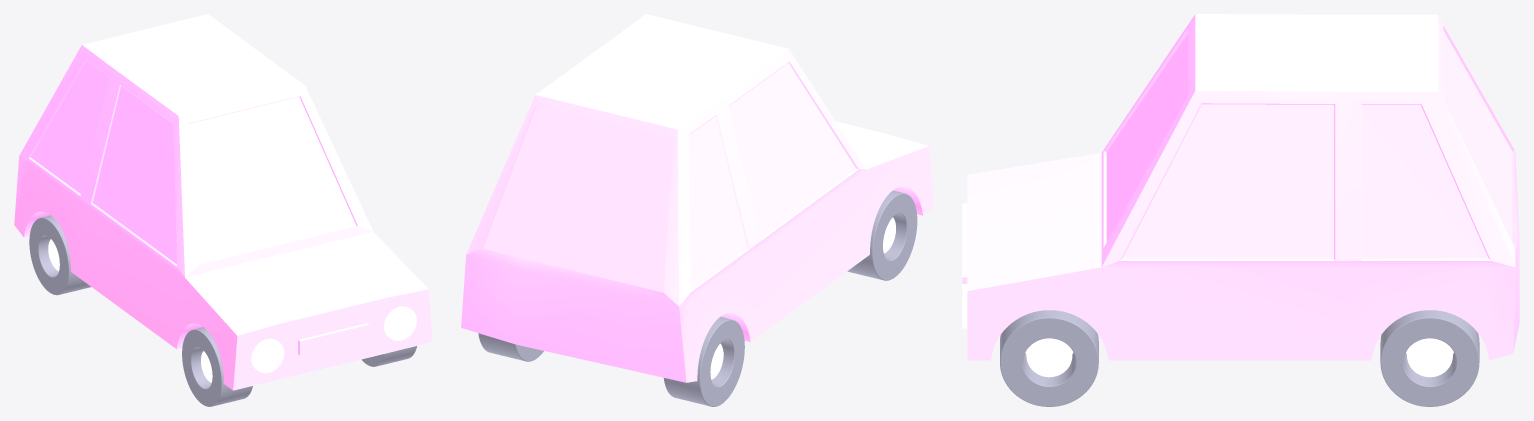
Rendered from car.gltf.
The picture shows the model from 3 angles, left to right: view 1: azimuth 30°, elevation 25°; view 2: azimuth 150°, elevation 25°; view 3: azimuth 270°, elevation 25°; orthographic projection. The views are drawn at different scales.
Parts seen in each view (by area): view 1: Car Frame, Wheel-Black, Head Light, Wheel-White; view 2: Car Frame, Wheel-Black, Wheel-White; view 3: Car Frame, Wheel-Black, Wheel-White.
Boxes of the visible parts, bbox=[...] form: Car Frame: bbox=[14, 14, 432, 390]; Wheel-Black: bbox=[29, 215, 416, 406]; Head Light: bbox=[251, 306, 416, 373]; Wheel-White: bbox=[48, 239, 212, 382]; Car Frame: bbox=[461, 14, 933, 382]; Wheel-Black: bbox=[478, 190, 917, 406]; Wheel-White: bbox=[710, 217, 895, 379]; Car Frame: bbox=[962, 14, 1519, 360]; Wheel-Black: bbox=[1000, 310, 1479, 406]; Wheel-White: bbox=[1026, 338, 1452, 377].
Bounding box in the file's own units: 0.2829 × 0.3208 × 0.549.
